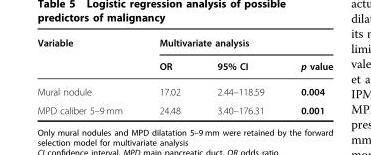table: (36, 36, 332, 115)
table column: (36, 36, 140, 115), (198, 36, 281, 115), (140, 36, 198, 115), (281, 36, 332, 115)
table column header: (36, 36, 332, 78)
table row: (36, 53, 332, 78), (36, 78, 332, 100), (36, 36, 332, 53), (36, 100, 332, 115)
table spanning cell: (36, 36, 140, 78), (140, 36, 332, 53)
